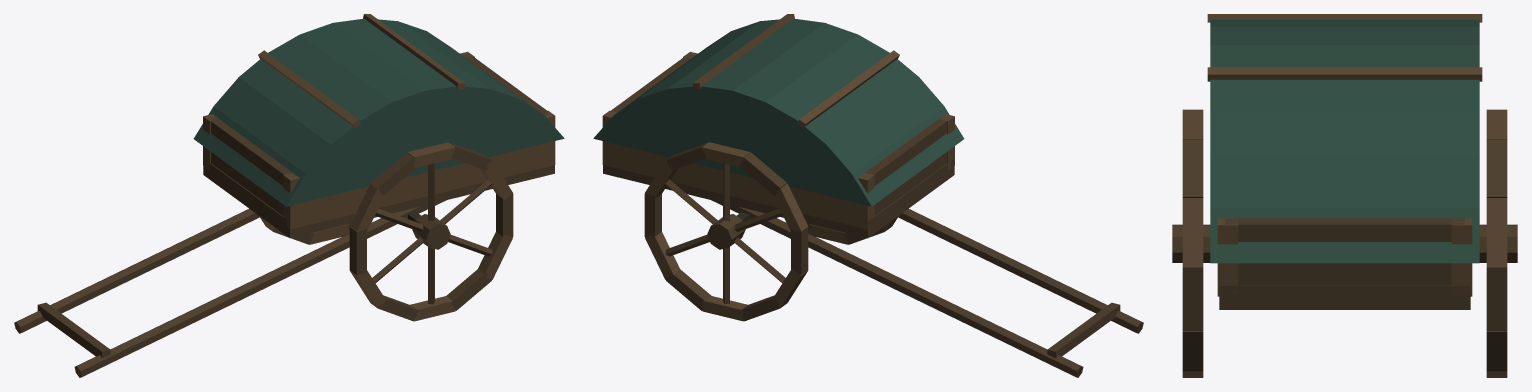
Rendered from MarketFenceCart.fbx.
The picture shows the model from 3 angles, left to right: view 1: azimuth 30°, elevation 25°; view 2: azimuth 150°, elevation 25°; view 3: azimuth 270°, elevation 25°; orthographic projection. The views are drawn at different scales.
Parts seen in each view (by area): view 1: MarketFenceCart; view 2: MarketFenceCart; view 3: MarketFenceCart.
Boxes of the visible parts, box(x1,y1,x2,y2) form: MarketFenceCart: box(14, 14, 564, 377); MarketFenceCart: box(593, 14, 1143, 377); MarketFenceCart: box(1172, 14, 1517, 377).
Bounding box in the file's own units: 271 × 120 × 118.
Materials: 4 (4 with a texture image).
